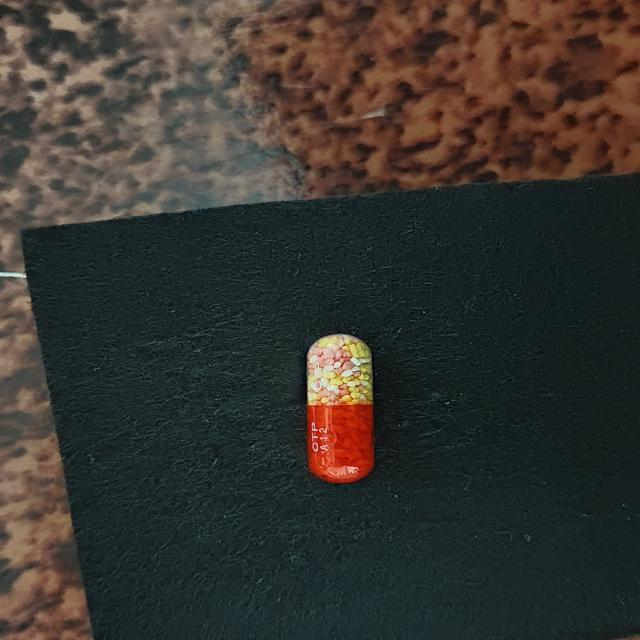Intact Capsule: (307, 334, 374, 483)
